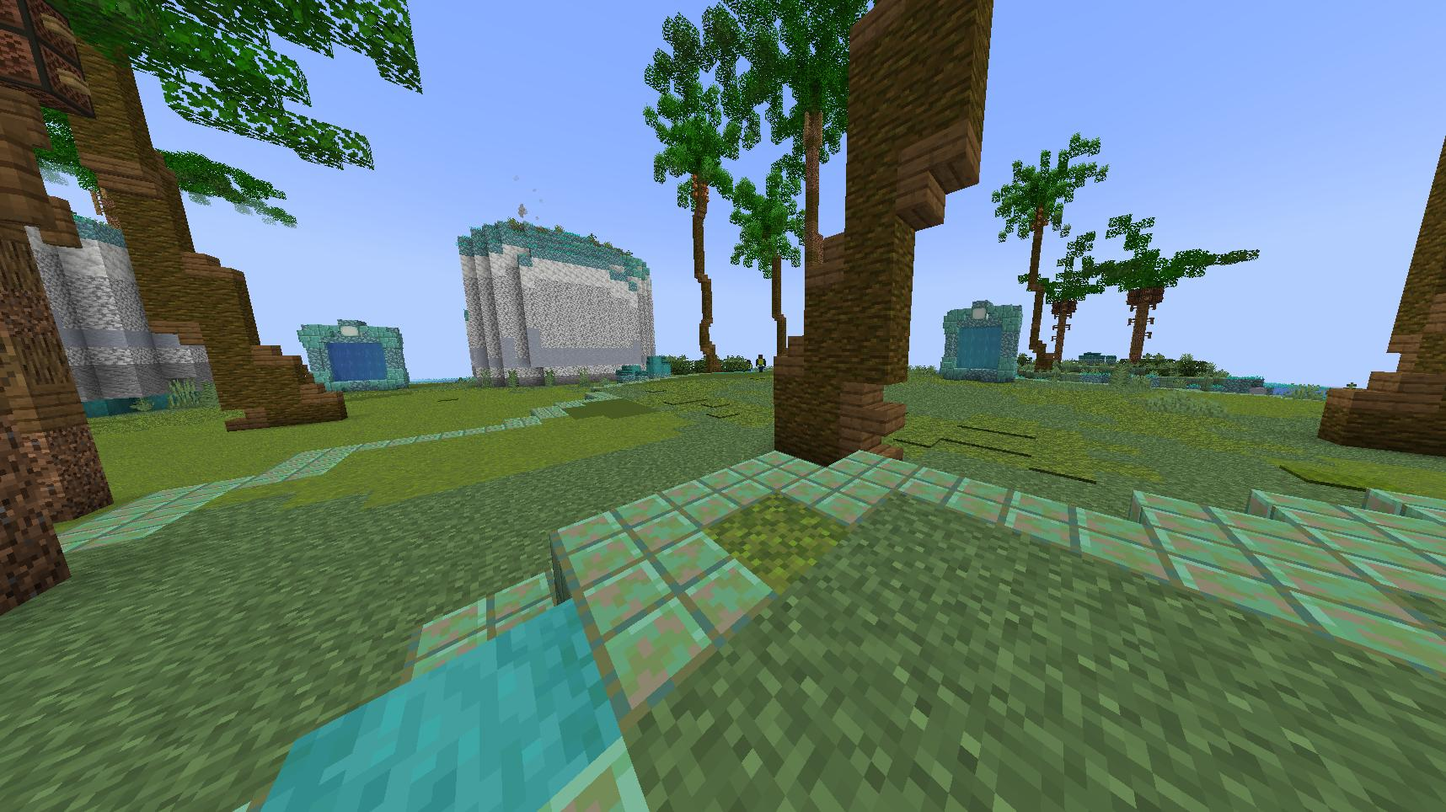Guardian: (756, 354, 767, 371)
